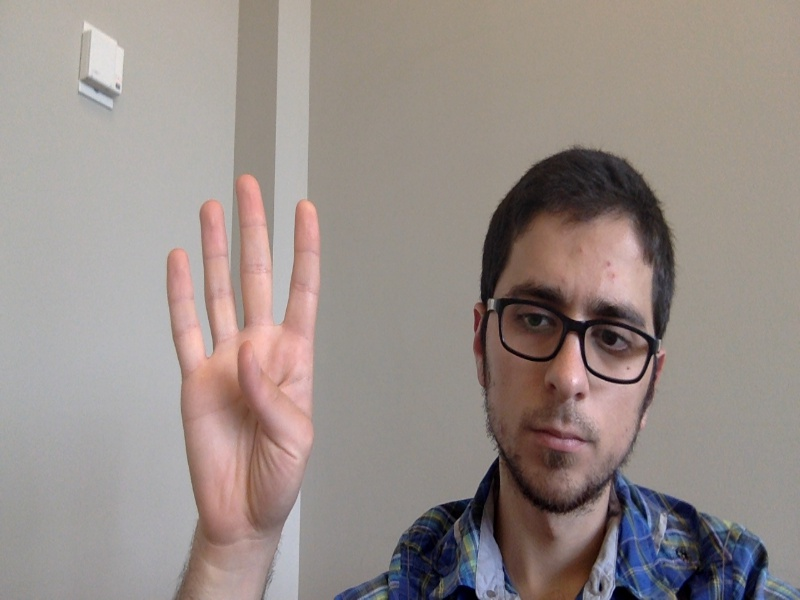4-hand: (165, 171, 320, 547)
